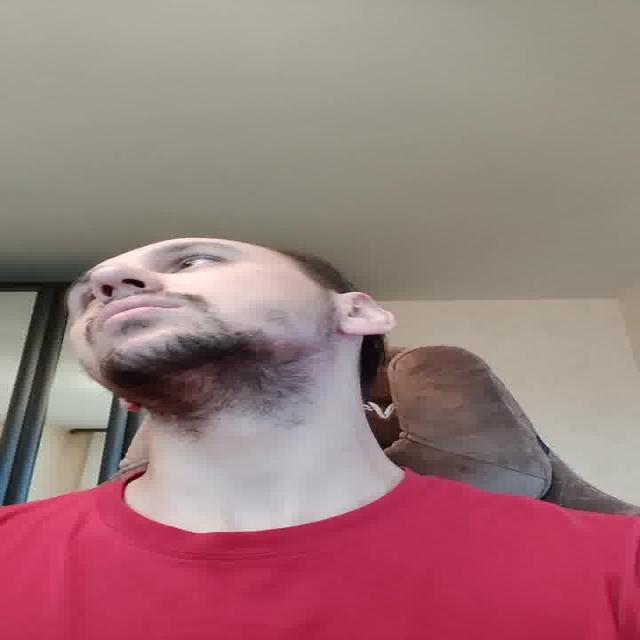earlobe: (335, 292, 399, 336)
